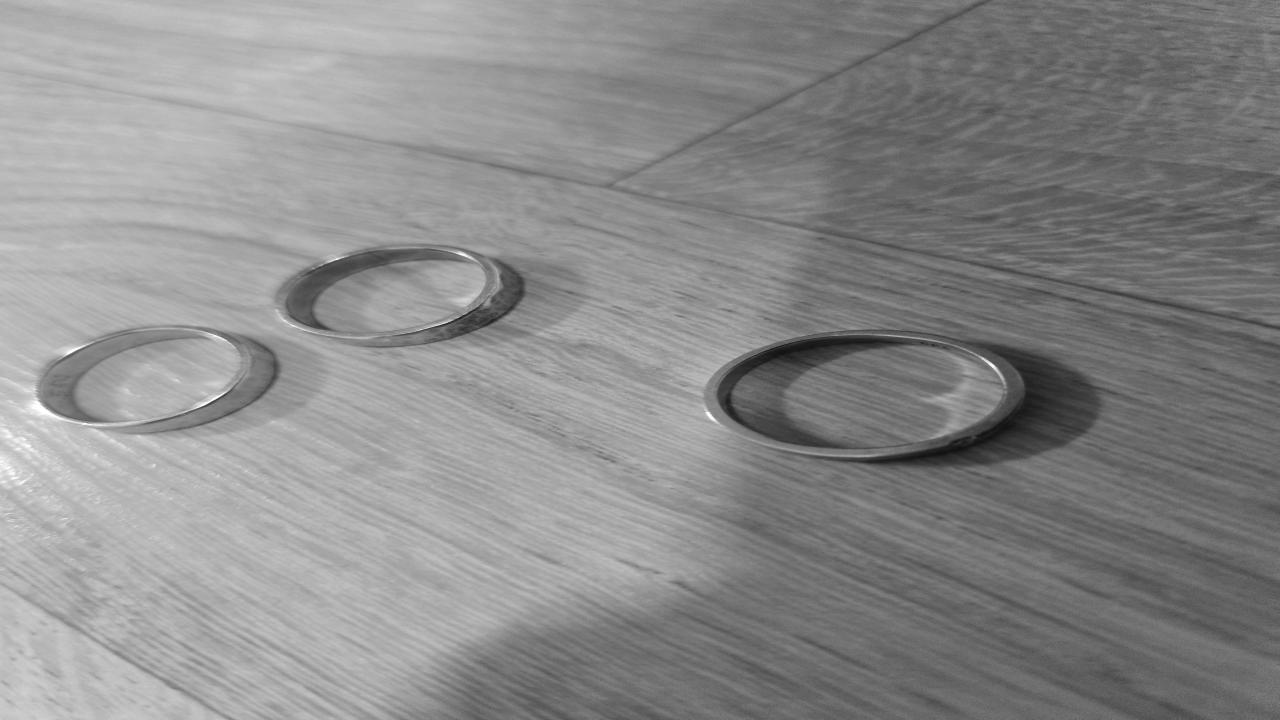ring: (706, 331, 1027, 460), (29, 326, 273, 432), (270, 243, 520, 345)
